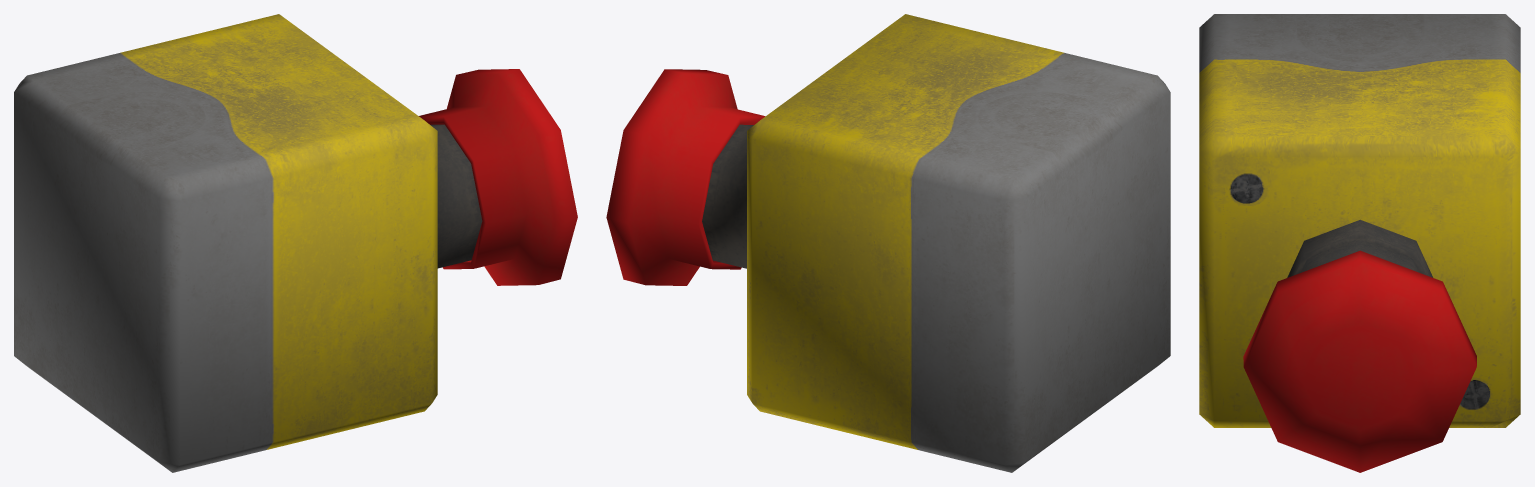
The picture shows the model from 3 angles, left to right: view 1: azimuth 30°, elevation 25°; view 2: azimuth 150°, elevation 25°; view 3: azimuth 270°, elevation 25°; orthographic projection.
Visible parts, largest first — view 1: Boitier_0, Bouton_2, PoussoirFrame_1; view 2: Boitier_0, Bouton_2, PoussoirFrame_1; view 3: Boitier_0, Bouton_2, PoussoirFrame_1.
Boxes of the visible parts, bbox=[...] form: Boitier_0: bbox=[14, 14, 437, 472]; Bouton_2: bbox=[419, 69, 577, 285]; PoussoirFrame_1: bbox=[430, 124, 482, 268]; Boitier_0: bbox=[747, 14, 1170, 472]; Bouton_2: bbox=[606, 69, 765, 285]; PoussoirFrame_1: bbox=[702, 124, 753, 268]; Boitier_0: bbox=[1199, 14, 1520, 427]; Bouton_2: bbox=[1243, 250, 1476, 472]; PoussoirFrame_1: bbox=[1287, 219, 1433, 277].
Bounding box in the file's own units: 3.35 × 2.07 × 2.07.
Materials: 1 (1 with a texture image).
